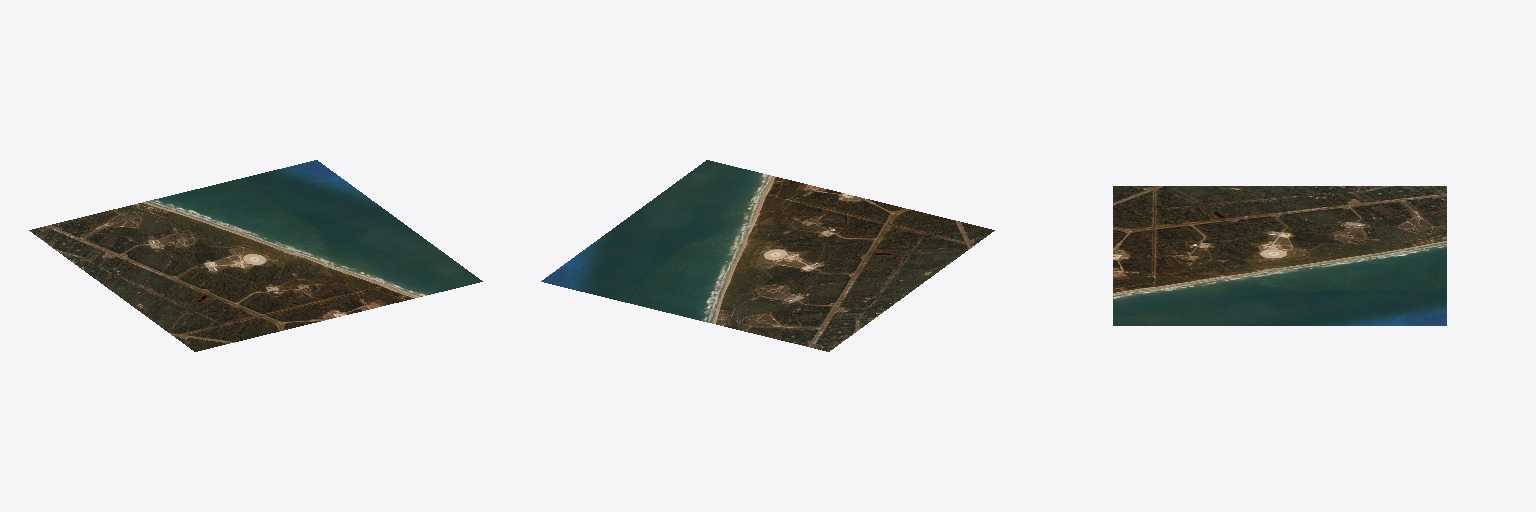
3 views of the same model, side by side, from view 1: azimuth 30°, elevation 25°; view 2: azimuth 150°, elevation 25°; view 3: azimuth 270°, elevation 25° (orthographic).
Visible parts, largest first — view 1: Plane; view 2: Plane; view 3: Plane.
Part boxes in pixels (x1,y1,x2,y2): Plane: (29, 160, 482, 351); Plane: (541, 160, 994, 351); Plane: (1113, 186, 1446, 325).
Bounding box in the file's own units: 3000 × 0 × 3000.
Materials: 1 (1 with a texture image).